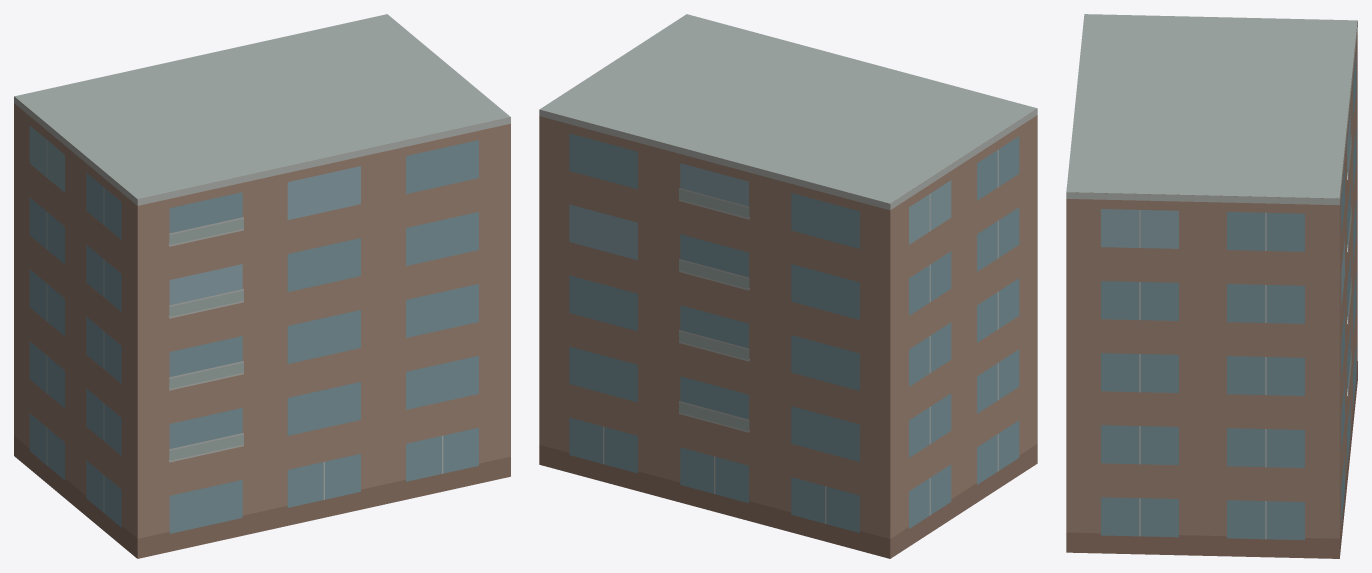
Rendered from survey-upis-32650006.glb.
3 renders of one model, left to right at view 1: azimuth 30°, elevation 25°; view 2: azimuth 150°, elevation 25°; view 3: azimuth 270°, elevation 25°, orthographic.
Parts seen in each view (by area): view 1: survey-upis-32650006.tmp; view 2: survey-upis-32650006.tmp; view 3: survey-upis-32650006.tmp.
Boxes of the visible parts, bbox=[...] form: survey-upis-32650006.tmp: bbox=[14, 14, 510, 558]; survey-upis-32650006.tmp: bbox=[539, 14, 1037, 558]; survey-upis-32650006.tmp: bbox=[1066, 14, 1357, 558].
Bounding box in the file's own units: 14.39 × 13.1 × 9.61.
